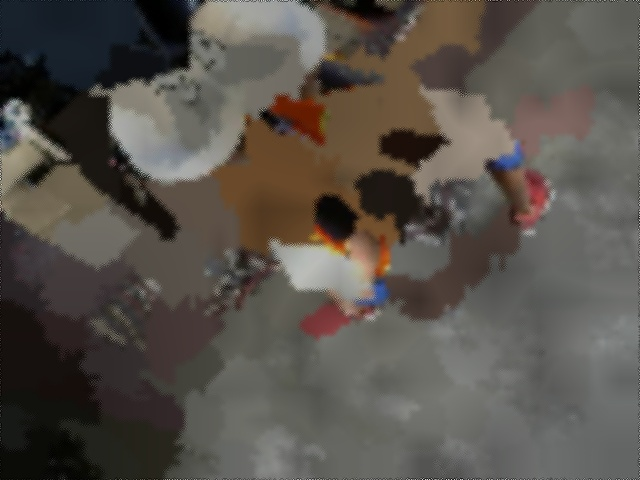one: (139, 60, 207, 112)
